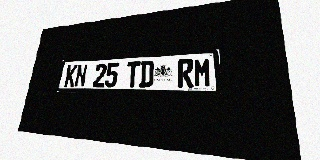2: (93, 63, 107, 87)
5: (104, 62, 119, 87)
D: (139, 61, 154, 87)
K: (64, 65, 78, 87)
M: (194, 58, 211, 87)
N: (74, 64, 88, 87)
R: (177, 58, 193, 87)
T: (125, 61, 140, 87)
